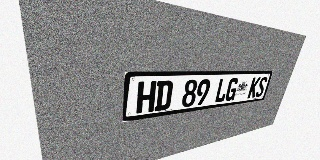8: (181, 79, 199, 108)
9: (194, 79, 211, 106)
D: (154, 80, 174, 111)
G: (224, 78, 239, 102)
H: (136, 81, 157, 114)
K: (247, 77, 261, 98)
L: (214, 78, 230, 103)
S: (255, 77, 268, 97)
